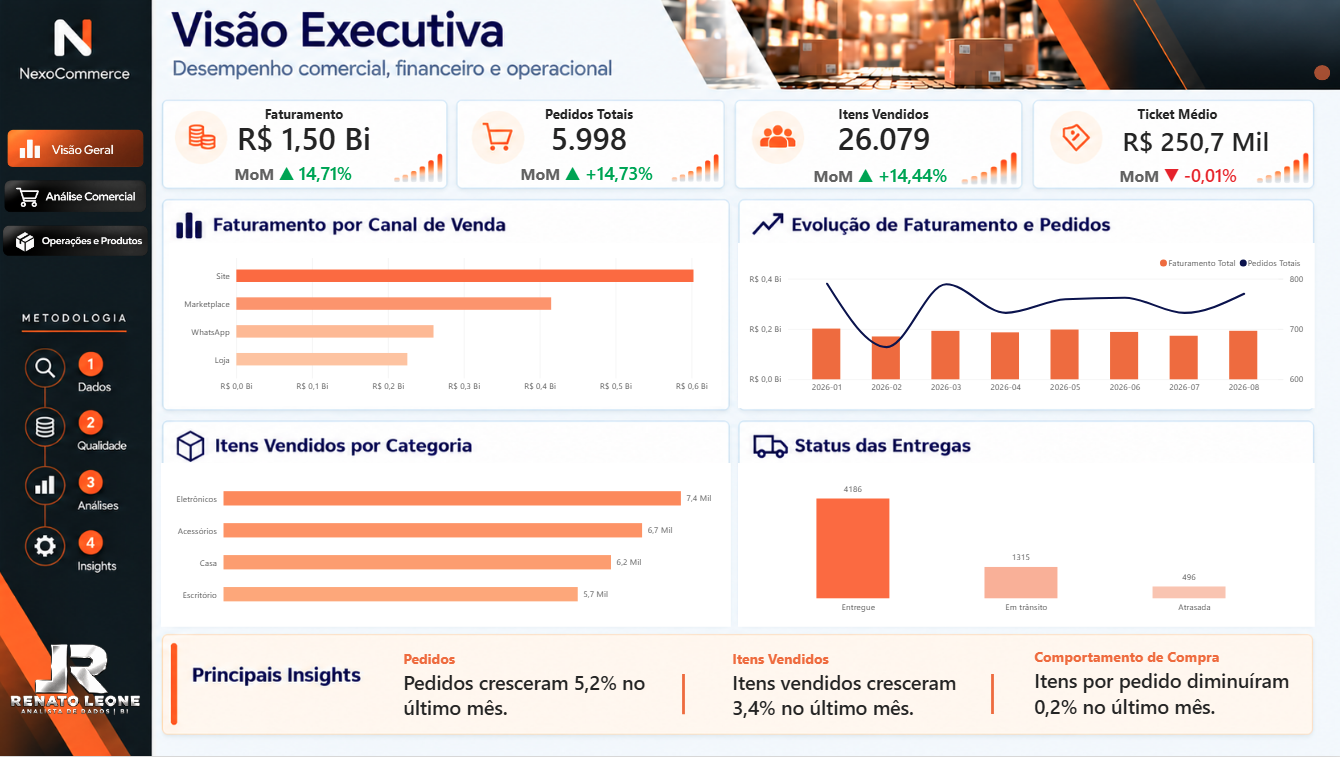

The page's visual inventory and layout, read from the dashboard file:
{"tool":"powerbi","page":{"name":"01_VISÃO EXECUTIVA","canvas":[1920,1080],"ordinal":0},"visuals":[{"type":"image","box":[0,860,221.4,220],"z":0},{"type":"image","box":[0,174.6,220.8,74.6],"z":1000},{"type":"image","box":[0,212.3,220.8,134.6],"z":2000},{"type":"image","box":[0,280.8,220.8,126.2],"z":3000},{"type":"cardVisual","fields":{"Data":["Medidas.Faturamento Total"]},"box":[321.4,175.7,231.4,128.6],"z":4000},{"type":"image","box":[550,188.6,100,101.4],"z":5000},{"type":"image","box":[947.1,188.6,97.1,101.4],"z":6000},{"type":"image","box":[1358.6,188.6,114.3,101.4],"z":7000},{"type":"image","box":[1781.4,188.6,107.1,101.4],"z":8000},{"type":"textbox","box":[0,0,221,150],"z":9000},{"type":"textbox","box":[347.5,150,180,25],"z":10000},{"type":"cardVisual","fields":{"Data":["Medidas.Pedidos Totais"]},"box":[730,175.7,228.6,128.6],"z":11000},{"type":"textbox","box":[748.6,150,191.4,25.7],"z":12000},{"type":"cardVisual","fields":{"Data":["Medidas.Itens Vendidos"]},"box":[1148.6,175.7,234.3,132.9],"z":13000},{"type":"textbox","box":[1137.1,150,255.7,25.7],"z":14000},{"type":"textbox","box":[1585.7,150,198.6,25.7],"z":15000},{"type":"cardVisual","fields":{"Data":["Medidas.Ticket Médio"]},"box":[1585.7,180,251.4,120],"z":16000},{"type":"clusteredBarChart","fields":{"Category":["pedidos.canal_venda"],"Y":["Medidas.Faturamento Total"]},"box":[244.3,347.1,788.6,232.9],"z":17000},{"type":"lineStackedColumnComboChart","fields":{"Category":["Calendário.Ano-Mes"],"Y":["Medidas.Faturamento Total"],"Y2":["Medidas.Pedidos Totais"]},"box":[1057.1,347.1,824.3,235.7],"z":18000},{"type":"clusteredBarChart","fields":{"Category":["produtos.categoria"],"Y":["Medidas.Itens Vendidos"]},"box":[232.9,661.4,814.3,234.3],"z":19000},{"type":"clusteredColumnChart","fields":{"Category":["entregas.status_entrega"],"Y":["Count(entregas.id_entrega)"]},"box":[1057.1,661.4,824.3,234.3],"z":20000},{"type":"cardVisual","fields":{"Data":["Medidas.Insight Pedidos"]},"box":[563.3,910,397.1,137.1],"z":21000},{"type":"cardVisual","fields":{"Data":["Medidas.Insight Comportamento de Compra"]},"box":[1464.3,895.7,397.1,160],"z":22000},{"type":"cardVisual","fields":{"Data":["Medidas.Insight Itens Vendidos"]},"box":[1032.9,910,397.1,137.1],"z":23000},{"type":"shape","title":"BTN_Abrir","box":[1880,93.3,23.3,22.2],"z":25000},{"type":"shape","box":[904.4,962.2,150,57.8],"z":25001},{"type":"shape","box":[1345.5,962.7,150,57.3],"z":25002}]}

Visuals, with their boxes on the page's 1920x1080 design canvas (x1, y1, x2, y2). These are canvas units, not pixel positions in the 1340x757 screenshot, which may show the page scaled, cropped or inside an application window:
image: (left=0, top=860, right=221, bottom=1080)
image: (left=0, top=175, right=221, bottom=249)
image: (left=0, top=212, right=221, bottom=347)
image: (left=0, top=281, right=221, bottom=407)
cardVisual - Medidas.Faturamento Total: (left=321, top=176, right=553, bottom=304)
image: (left=550, top=189, right=650, bottom=290)
image: (left=947, top=189, right=1044, bottom=290)
image: (left=1359, top=189, right=1473, bottom=290)
image: (left=1781, top=189, right=1888, bottom=290)
textbox: (left=0, top=0, right=221, bottom=150)
textbox: (left=348, top=150, right=528, bottom=175)
cardVisual - Medidas.Pedidos Totais: (left=730, top=176, right=959, bottom=304)
textbox: (left=749, top=150, right=940, bottom=176)
cardVisual - Medidas.Itens Vendidos: (left=1149, top=176, right=1383, bottom=309)
textbox: (left=1137, top=150, right=1393, bottom=176)
textbox: (left=1586, top=150, right=1784, bottom=176)
cardVisual - Medidas.Ticket Médio: (left=1586, top=180, right=1837, bottom=300)
clusteredBarChart - pedidos.canal_venda x Medidas.Faturamento Total: (left=244, top=347, right=1033, bottom=580)
lineStackedColumnComboChart - Calendário.Ano-Mes x Medidas.Faturamento Total: (left=1057, top=347, right=1881, bottom=583)
clusteredBarChart - produtos.categoria x Medidas.Itens Vendidos: (left=233, top=661, right=1047, bottom=896)
clusteredColumnChart - entregas.status_entrega x Count(entregas.id_entrega): (left=1057, top=661, right=1881, bottom=896)
cardVisual - Medidas.Insight Pedidos: (left=563, top=910, right=960, bottom=1047)
cardVisual - Medidas.Insight Comportamento de Compra: (left=1464, top=896, right=1861, bottom=1056)
cardVisual - Medidas.Insight Itens Vendidos: (left=1033, top=910, right=1430, bottom=1047)
"BTN_Abrir" shape: (left=1880, top=93, right=1903, bottom=116)
shape: (left=904, top=962, right=1054, bottom=1020)
shape: (left=1346, top=963, right=1496, bottom=1020)
